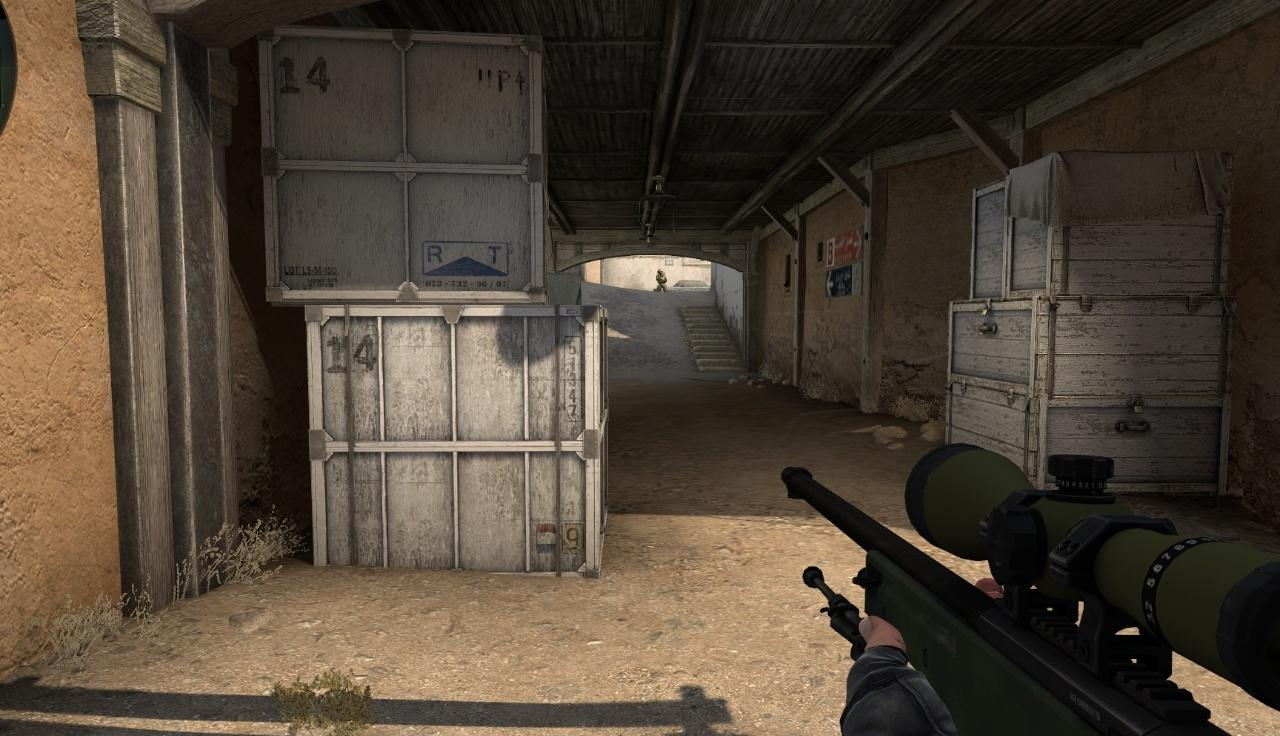ct: (656, 268, 668, 292)
cthead: (658, 269, 663, 275)
sniper: (781, 443, 1280, 736)
